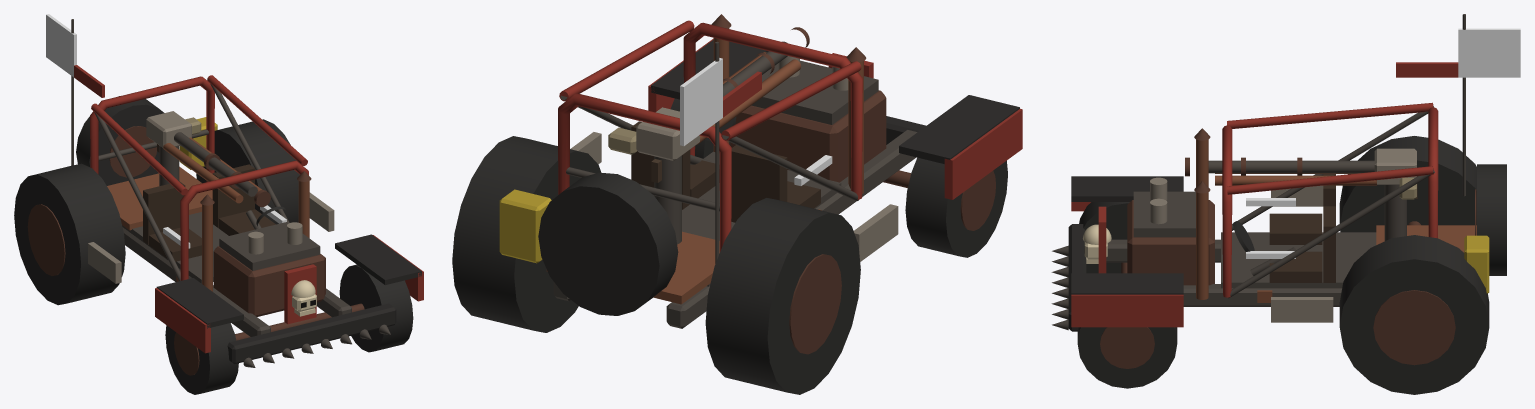
3 views of the same model, side by side, from view 1: azimuth 30°, elevation 25°; view 2: azimuth 150°, elevation 25°; view 3: azimuth 270°, elevation 25° (orthographic). The views are drawn at different scales.
Parts seen in each view (by area): view 1: raider_vehicle_buggy; view 2: raider_vehicle_buggy; view 3: raider_vehicle_buggy.
Part boxes in pixels (bbox=[...]): raider_vehicle_buggy: bbox=[14, 14, 423, 394]; raider_vehicle_buggy: bbox=[452, 14, 1022, 394]; raider_vehicle_buggy: bbox=[1051, 14, 1520, 394].
Bounding box in the file's own units: 2.37 × 2.5 × 3.76.
